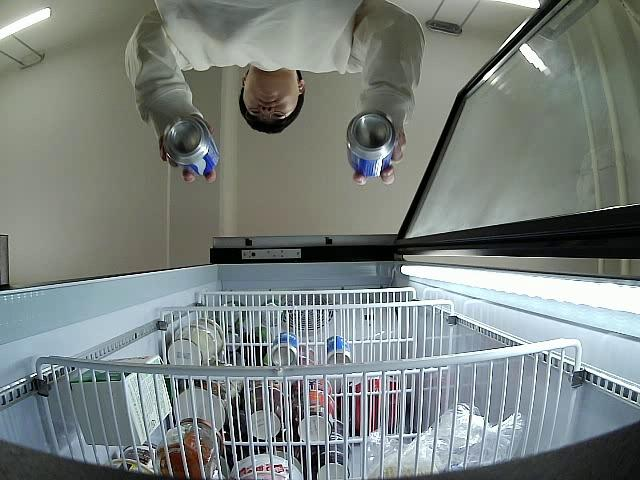00_hand: (354, 130, 407, 186), (158, 147, 218, 186)
13_pocariSweat: (160, 116, 221, 178), (346, 111, 397, 177)
